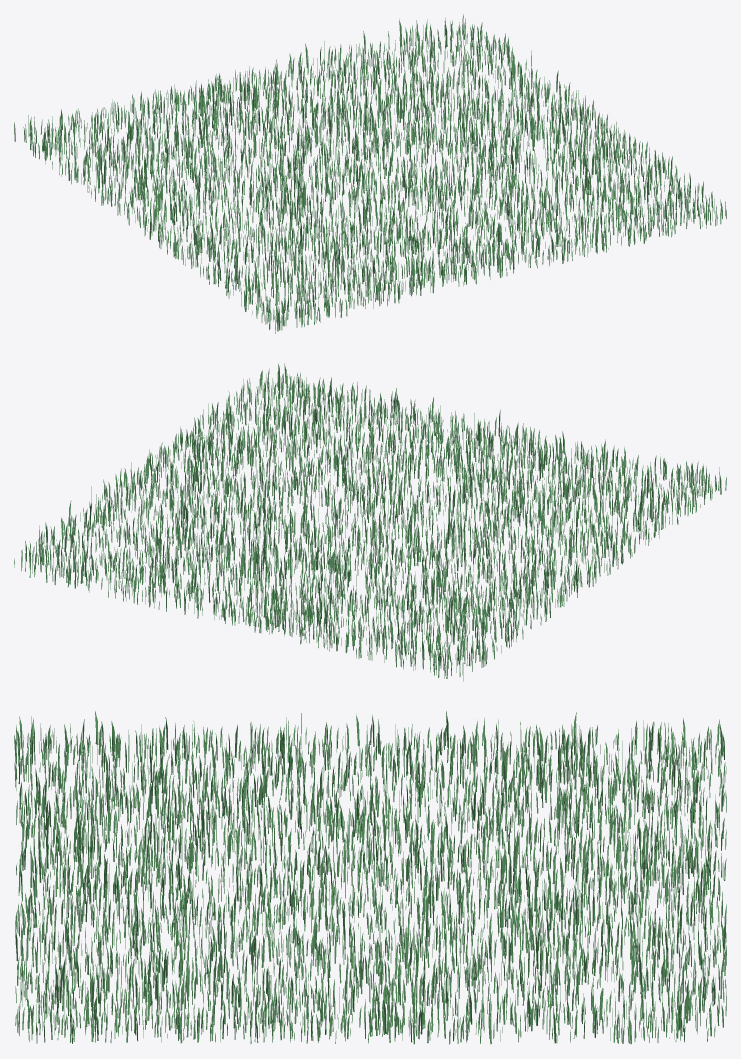
Rendered from grass.fbx.
3 renders of one model, top to bottom at view 1: azimuth 30°, elevation 25°; view 2: azimuth 150°, elevation 25°; view 3: azimuth 270°, elevation 25°, orthographic. The views are drawn at different scales.
Parts seen in each view (by area): view 1: Plane; view 2: Plane; view 3: Plane.
Boxes of the visible parts, <box> form: Plane: <box>14,14,726,333</box>; Plane: <box>14,363,726,681</box>; Plane: <box>14,711,726,1044</box>.
Bounding box in the file's own units: 455 × 27.37 × 456.
